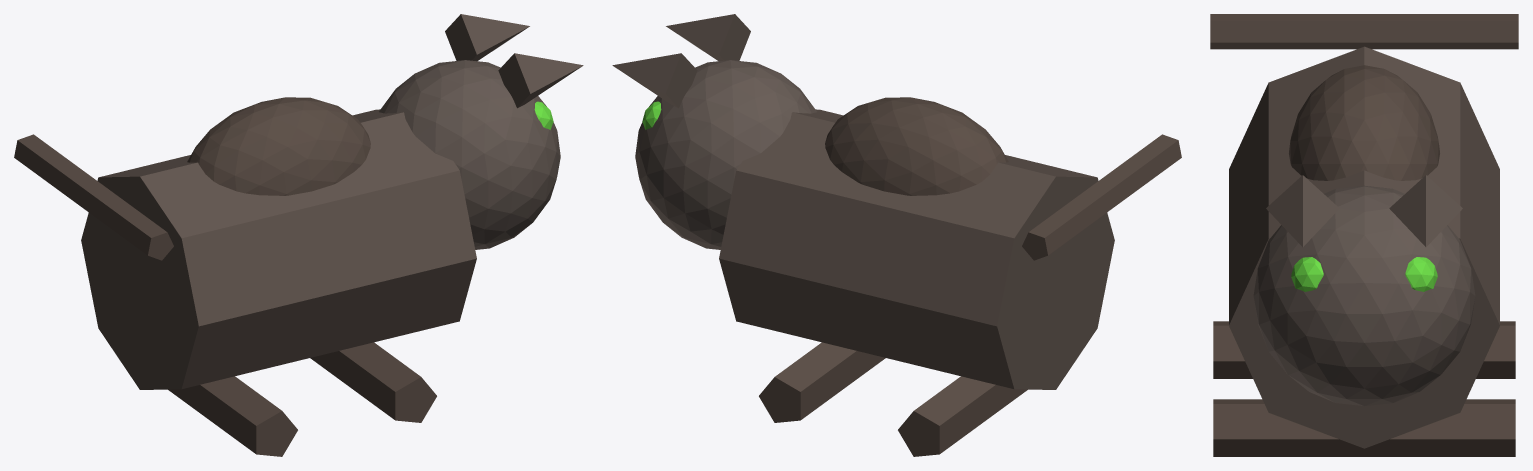
File: zombie_cat.glb
3 renders of one model, left to right at view 1: azimuth 30°, elevation 25°; view 2: azimuth 150°, elevation 25°; view 3: azimuth 270°, elevation 25°, orthographic. The views are drawn at different scales.
Visible parts, largest first — view 1: geometry_0; view 2: geometry_0; view 3: geometry_0.
Boxes of the visible parts, x1=… form: geometry_0: x1=14, y1=14, x2=583, y2=456; geometry_0: x1=612, y1=14, x2=1181, y2=456; geometry_0: x1=1210, y1=14, x2=1518, y2=456.
Bounding box in the file's own units: 1.03 × 0.6376 × 0.5.
